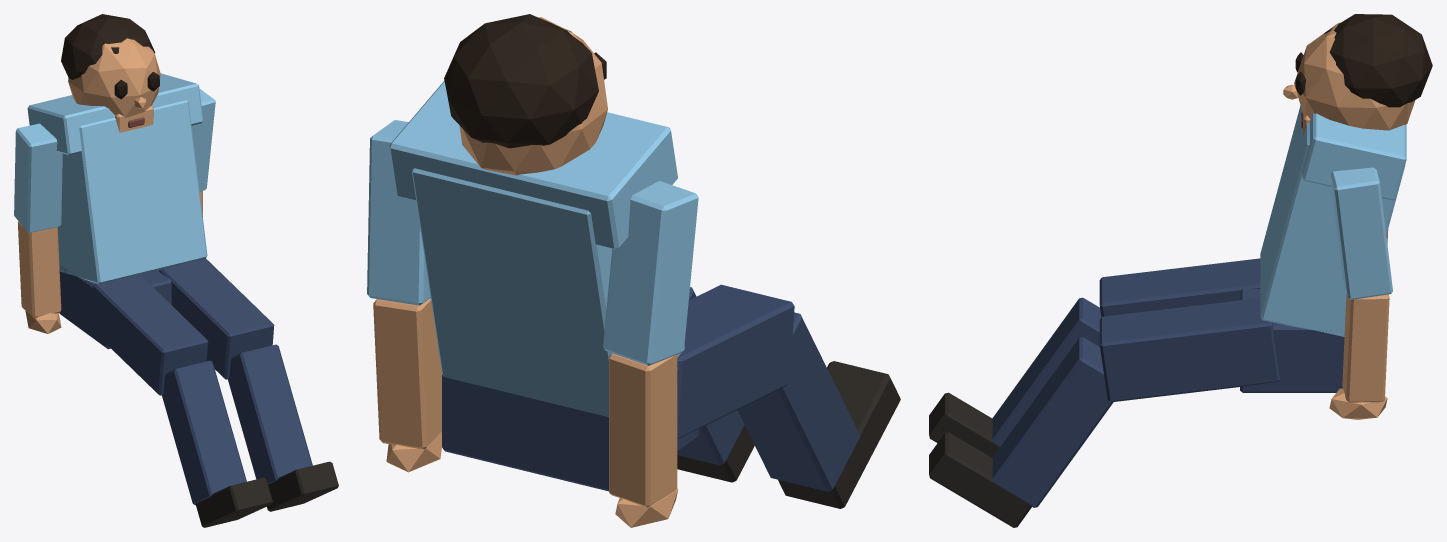
The model's file is patient.glb.
3 views of the same model, side by side, from view 1: azimuth 30°, elevation 25°; view 2: azimuth 150°, elevation 25°; view 3: azimuth 270°, elevation 25° (orthographic). The views are drawn at different scales.
Parts seen in each view (by area): view 1: Chest, ThighL, ShinL, ShinR, ThighR, UpperArmL, Head, Shoulders, ForearmL, Hair, FootL, Pelvis (+4 smaller); view 2: Chest, Shoulders, Hair, UpperArmL, ThighL, Pelvis, ShinL, ForearmL, ForearmR, UpperArmR, FootL, Head (+4 smaller); view 3: ThighR, Chest, ShinR, Hair, ThighL, UpperArmR, Shoulders, Head, Pelvis, ForearmR, FootR, ShinL (+2 smaller).
Boxes of the visible parts, box(x1,y1,x2,y2) form: Chest: box(57, 100, 207, 284); ThighL: box(90, 274, 208, 395); ShinL: box(162, 360, 246, 505); ShinR: box(228, 344, 312, 484); ThighR: box(159, 258, 274, 379); UpperArmL: box(14, 123, 62, 232); Head: box(68, 38, 160, 117); Shoulders: box(27, 73, 203, 155); ForearmL: box(17, 221, 61, 317); Hair: box(61, 14, 155, 79); FootL: box(195, 477, 272, 527); Pelvis: box(59, 267, 171, 348); Chest: box(411, 168, 684, 417); Shoulders: box(389, 80, 677, 249); Hair: box(444, 14, 598, 148); UpperArmL: box(603, 181, 698, 365); ThighL: box(677, 284, 794, 438); Pelvis: box(442, 367, 698, 491); ShinL: box(737, 312, 860, 491); ForearmL: box(609, 353, 677, 507); ForearmR: box(373, 298, 441, 449); UpperArmR: box(367, 120, 430, 305); FootL: box(778, 361, 900, 508); Head: box(459, 17, 607, 175); ThighR: box(1099, 298, 1279, 402); Chest: box(1260, 105, 1405, 336); ShinR: box(992, 337, 1113, 507); Hair: box(1324, 14, 1432, 107); ThighL: box(1099, 258, 1260, 317); UpperArmR: box(1330, 167, 1392, 299); Shoulders: box(1302, 113, 1406, 200); Head: box(1294, 22, 1415, 130); Pelvis: box(1240, 288, 1344, 392); ForearmR: box(1342, 294, 1389, 402); FootR: box(929, 432, 1031, 527); ShinL: box(992, 297, 1101, 446).
Bounding box in the file's own units: 0.5787 × 1.15 × 1.1.
